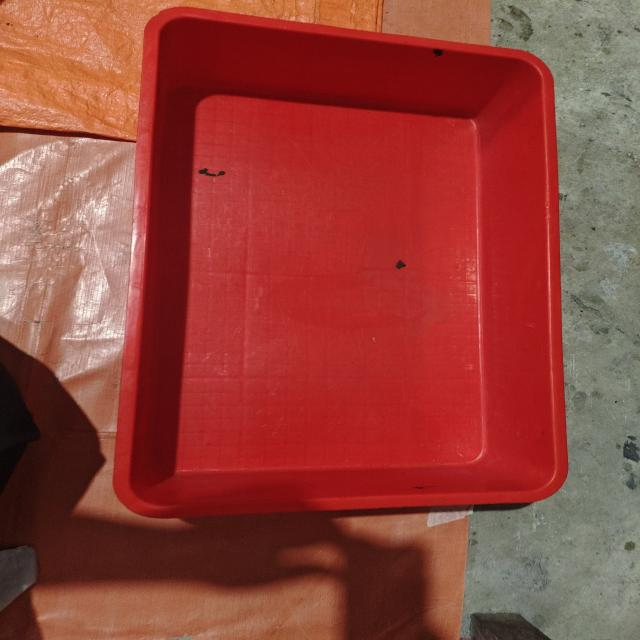red plastic box: (113, 7, 569, 520)
